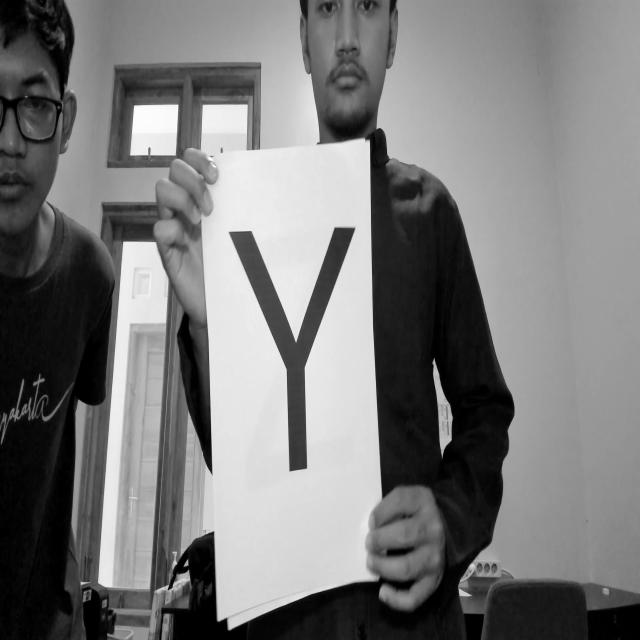y: (216, 199, 371, 517)
